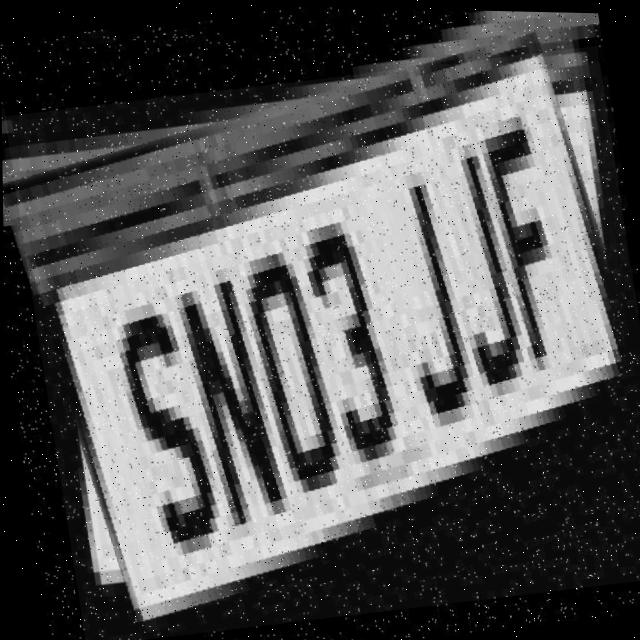LicensePlate: (3, 32, 640, 640)
